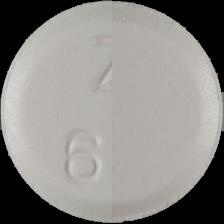68382-024: (0, 0, 224, 224)
